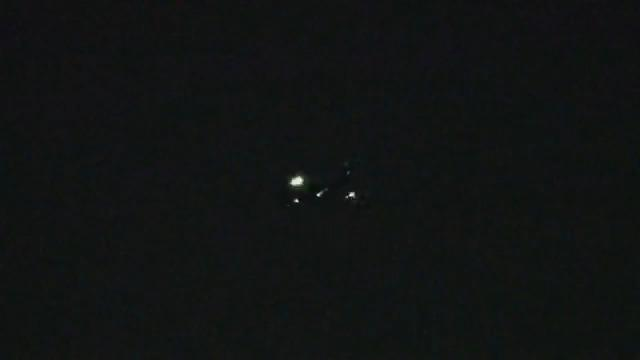Plane: (264, 145, 376, 232)
